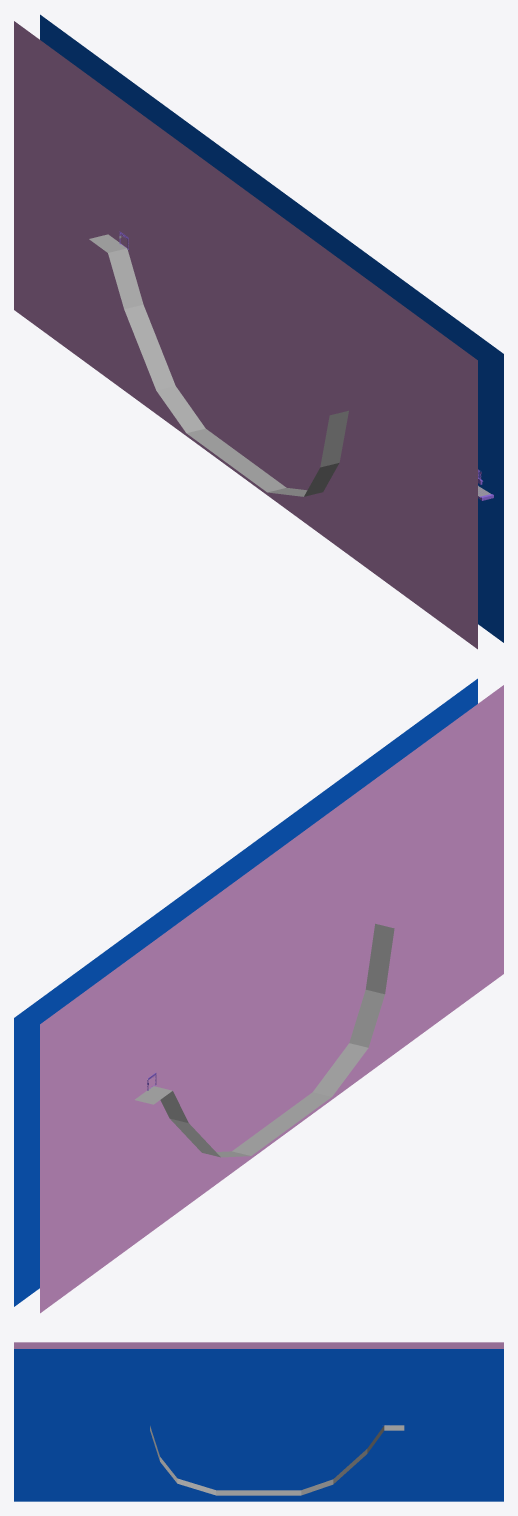
Rendered from AllStadium.fbx.
3 renders of one model, top to bottom at view 1: azimuth 30°, elevation 25°; view 2: azimuth 150°, elevation 25°; view 3: azimuth 270°, elevation 25°, orthographic. The views are drawn at different scales.
Visible parts, largest first — view 1: pPlane8, pPlane7, pPlane5; view 2: pPlane8, pPlane7, pPlane5; view 3: pPlane7, pPlane8, pPlane5.
Boxes of the visible parts, bbox=[...] form: pPlane8: bbox=[14, 21, 477, 649]; pPlane7: bbox=[40, 14, 503, 642]; pPlane5: bbox=[89, 234, 348, 496]; pPlane8: bbox=[40, 685, 503, 1313]; pPlane7: bbox=[14, 678, 477, 1306]; pPlane5: bbox=[135, 923, 394, 1157]; pPlane7: bbox=[14, 1349, 503, 1501]; pPlane8: bbox=[14, 1342, 503, 1348]; pPlane5: bbox=[150, 1425, 404, 1495].
Bounding box in the file's own units: 730 × 3054 × 8882.
